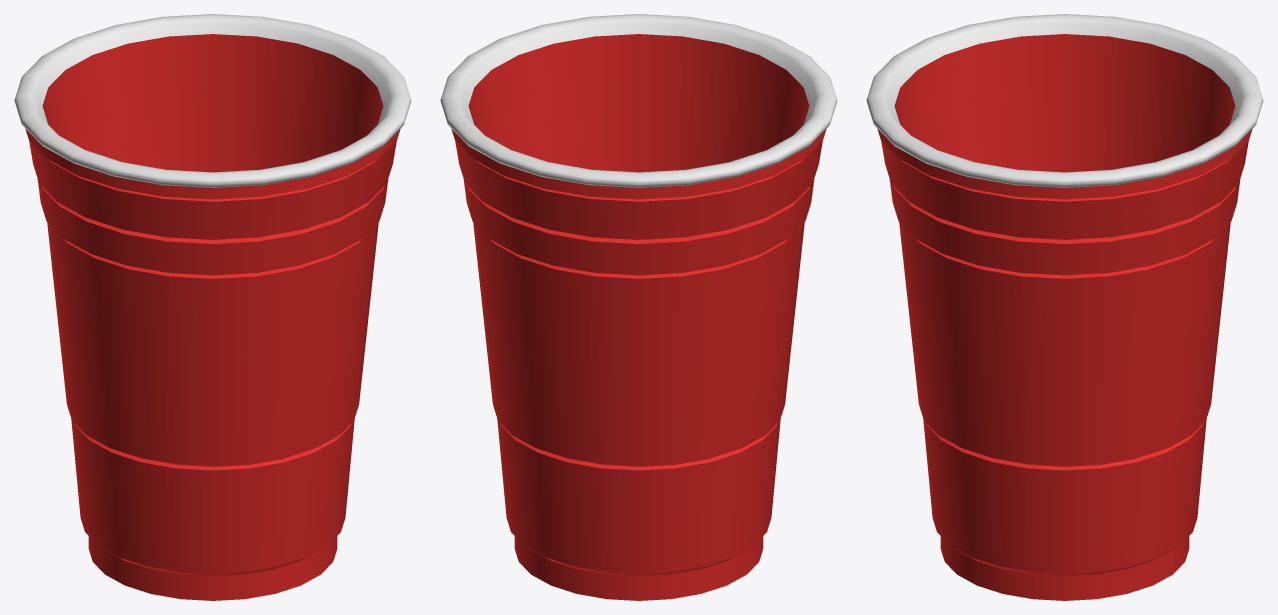
Rendered from SM_PlasticCup.fbx.
3 views of the same model, side by side, from view 1: azimuth 30°, elevation 25°; view 2: azimuth 150°, elevation 25°; view 3: azimuth 270°, elevation 25° (orthographic).
Parts seen in each view (by area): view 1: SM_PlasticCup; view 2: SM_PlasticCup; view 3: SM_PlasticCup.
Boxes of the visible parts, bbox=[...] form: SM_PlasticCup: bbox=[14, 14, 411, 600]; SM_PlasticCup: bbox=[440, 14, 837, 600]; SM_PlasticCup: bbox=[866, 14, 1263, 600].
Size of what is drawn, in the model's own units: 200 by 252 by 200.
